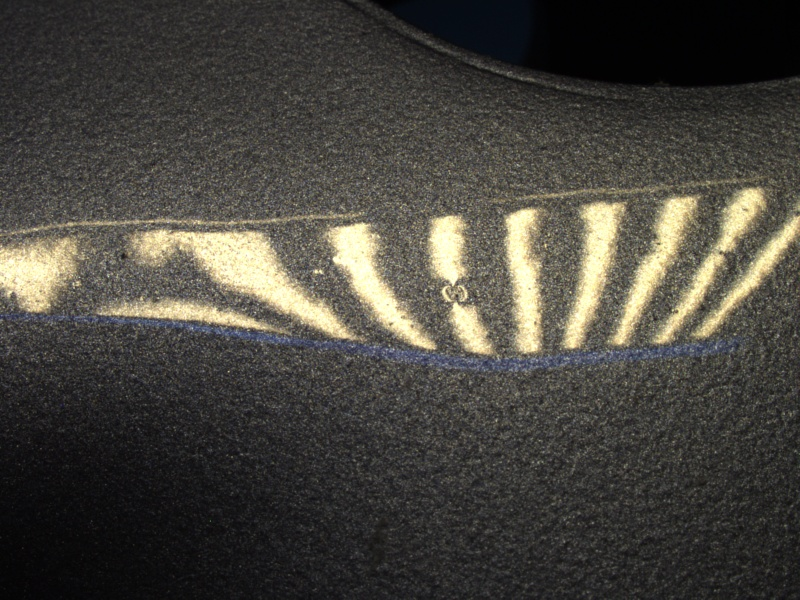bad: (435, 271, 478, 310)
